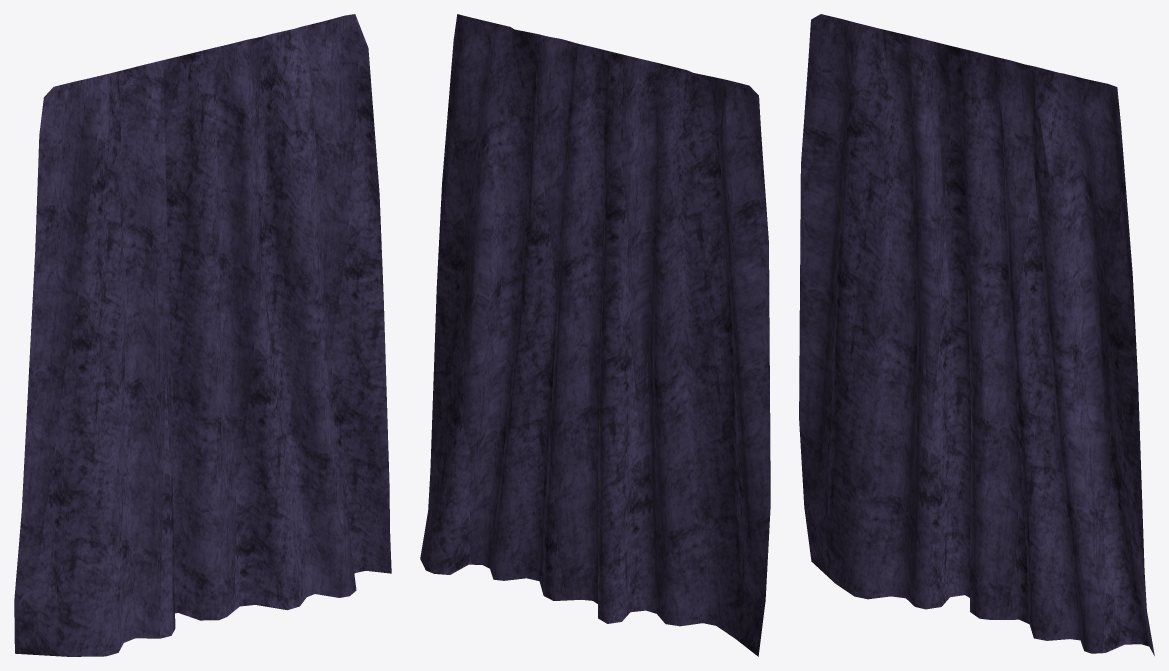
The model's file is curtain_1_2.fbx.
3 views of the same model, side by side, from view 1: azimuth 30°, elevation 25°; view 2: azimuth 150°, elevation 25°; view 3: azimuth 330°, elevation 25° (orthographic). The views are drawn at different scales.
Visible parts, largest first — view 1: Grid; view 2: Grid; view 3: Grid.
Part boxes in pixels (<box>): Grid: <box>14,14,391,656</box>; Grid: <box>420,14,770,656</box>; Grid: <box>799,14,1154,655</box>.
Bounding box in the file's own units: 126 × 189 × 17.88.
